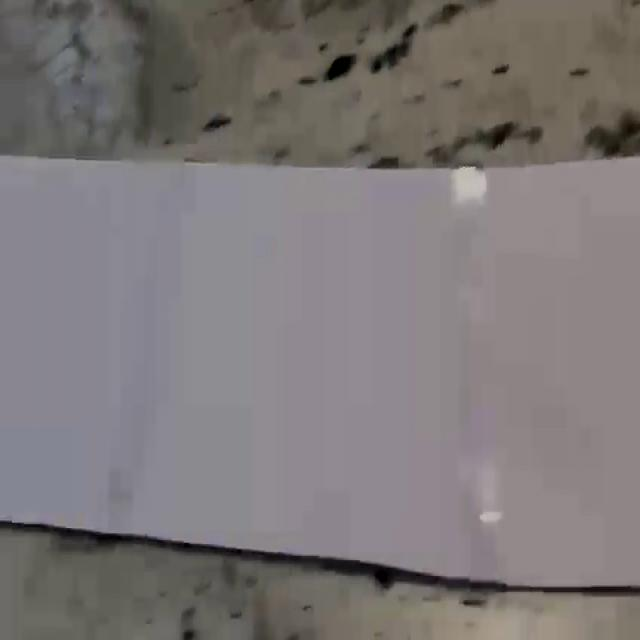road: (0, 156, 640, 587)
